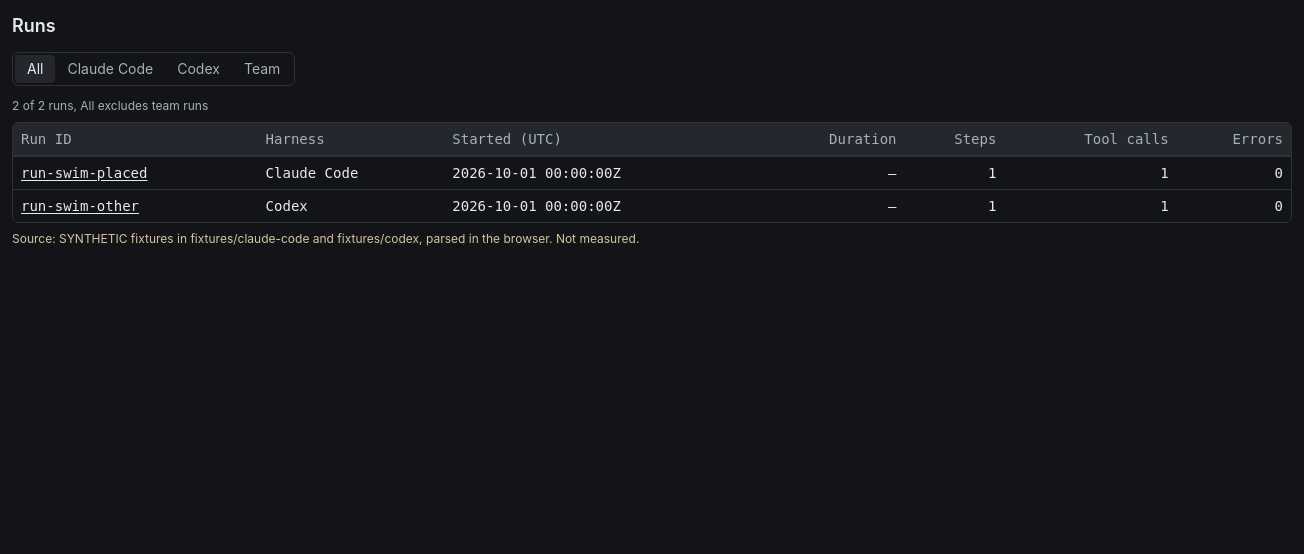
it: HL-015a A5: reached from the run detail › no swimlane on the list; opening a run shows that run's swimlane (lazy, so await it)
The width and height of the screenshot is (1304, 554).
Click the button "run-swim-placed" at (84, 173), box [21, 163, 147, 183]
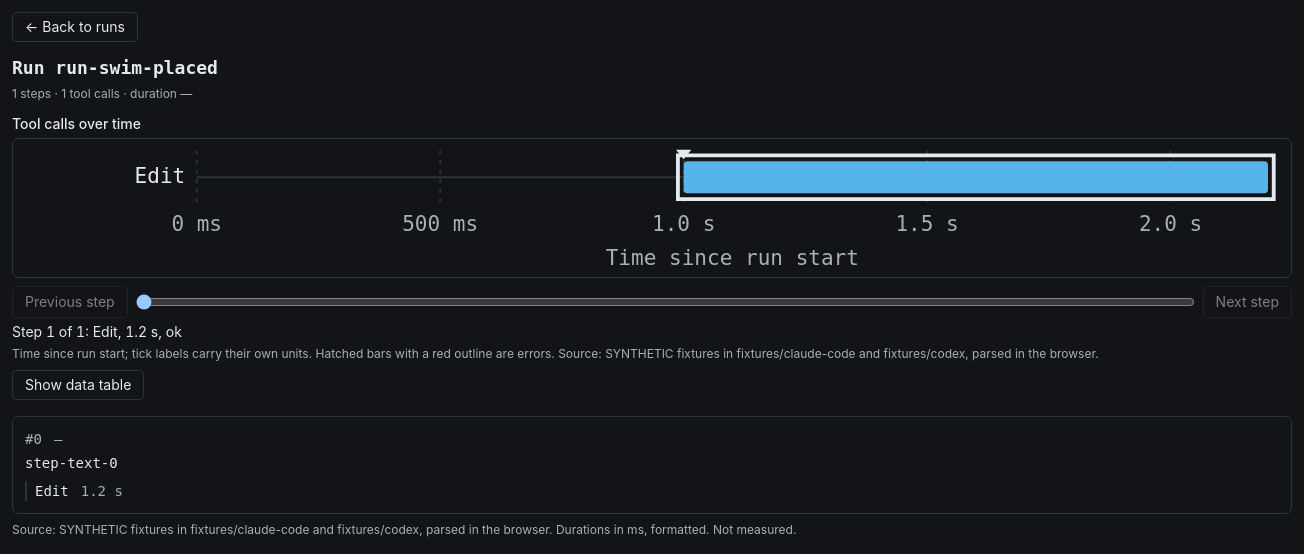
Check: the element named "Run swimlane" shows "Edit", box [135, 163, 185, 188]
